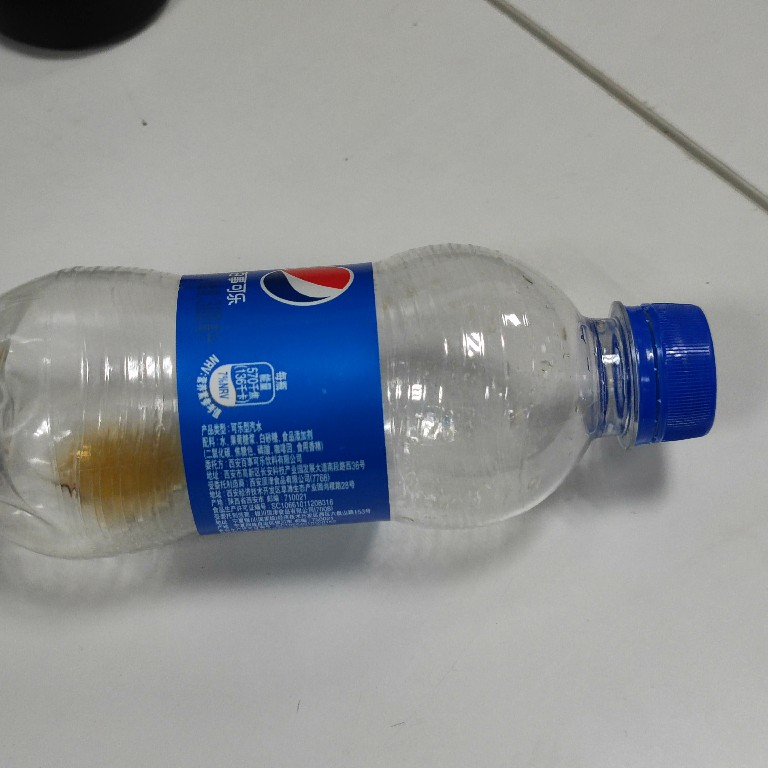bottle: (1, 240, 720, 565)
